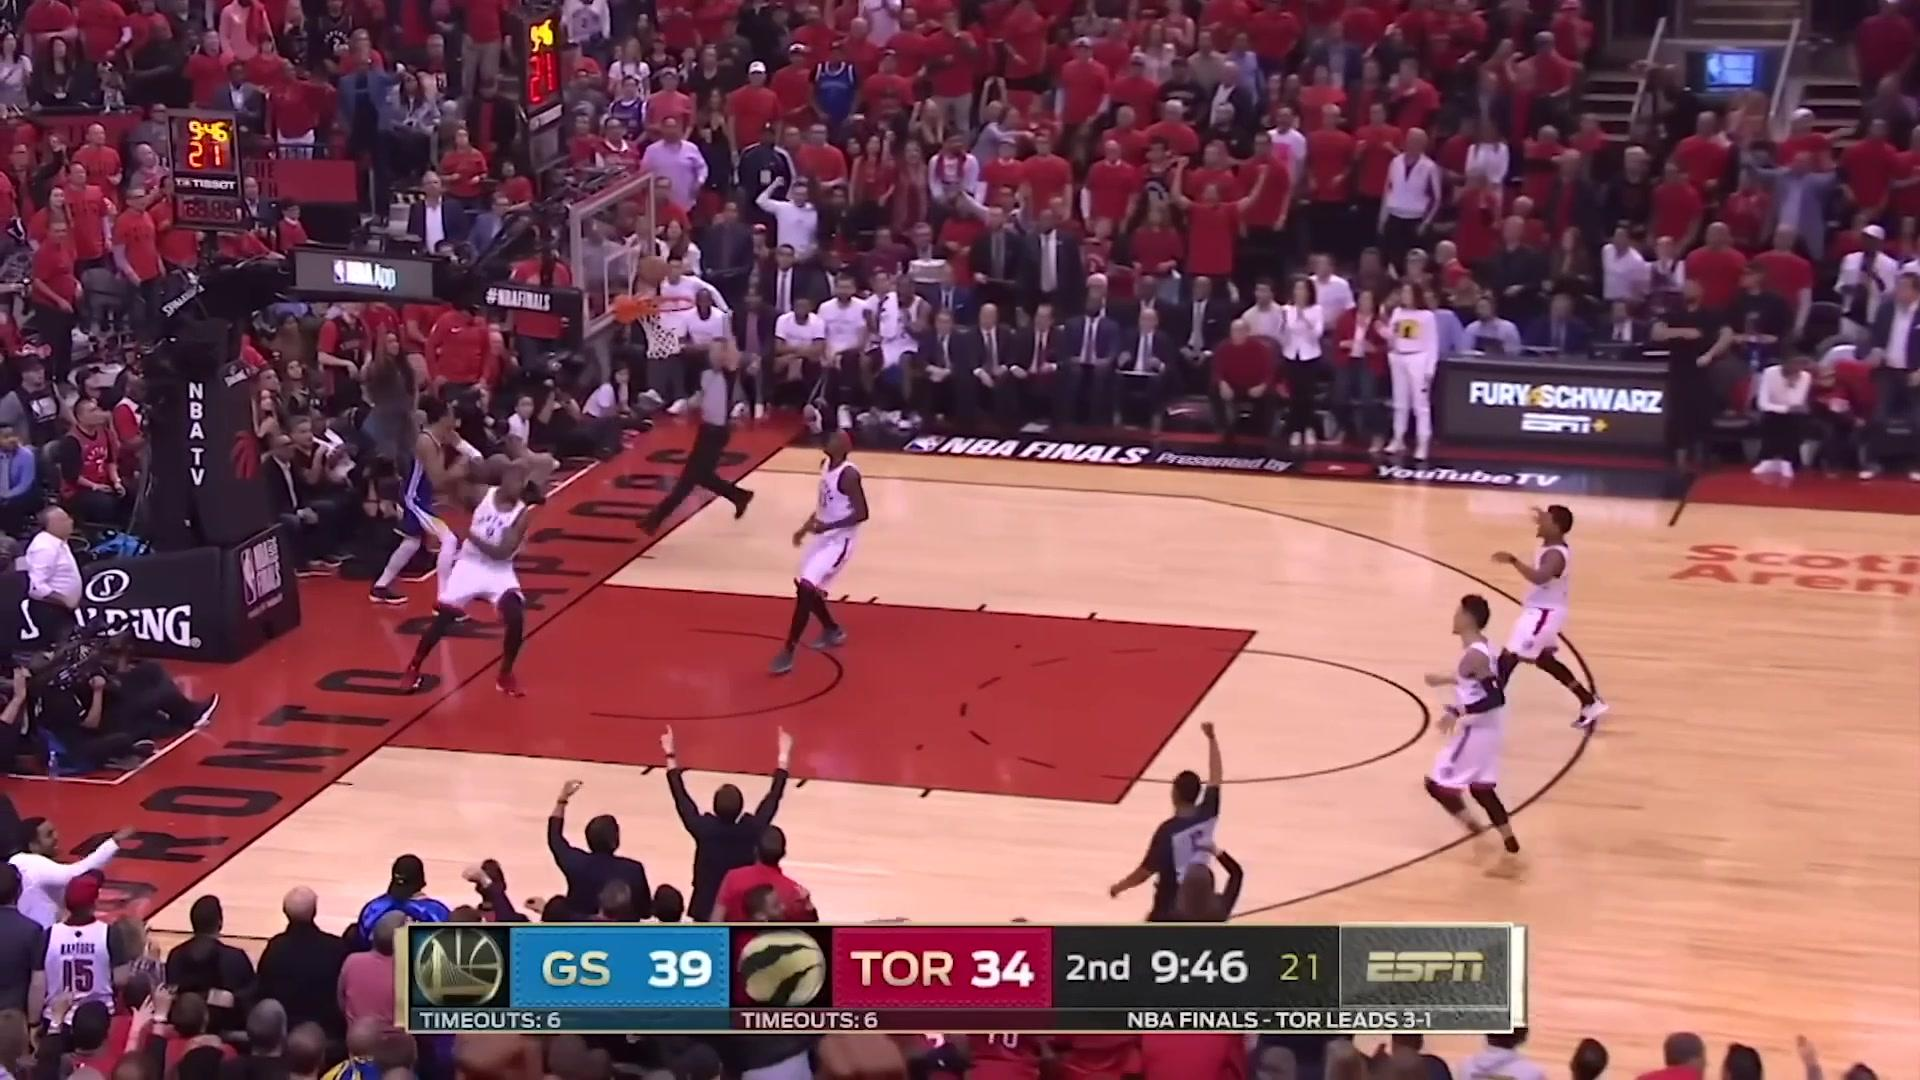foul: (364, 390, 578, 690)
